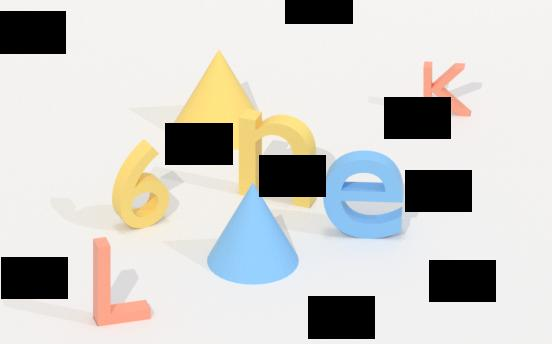6: (110, 138, 172, 234)
e: (322, 143, 410, 244)
k: (418, 56, 476, 120)
l: (85, 230, 158, 334)
n: (237, 103, 315, 211)
non: (167, 47, 265, 156), (208, 182, 302, 294)
